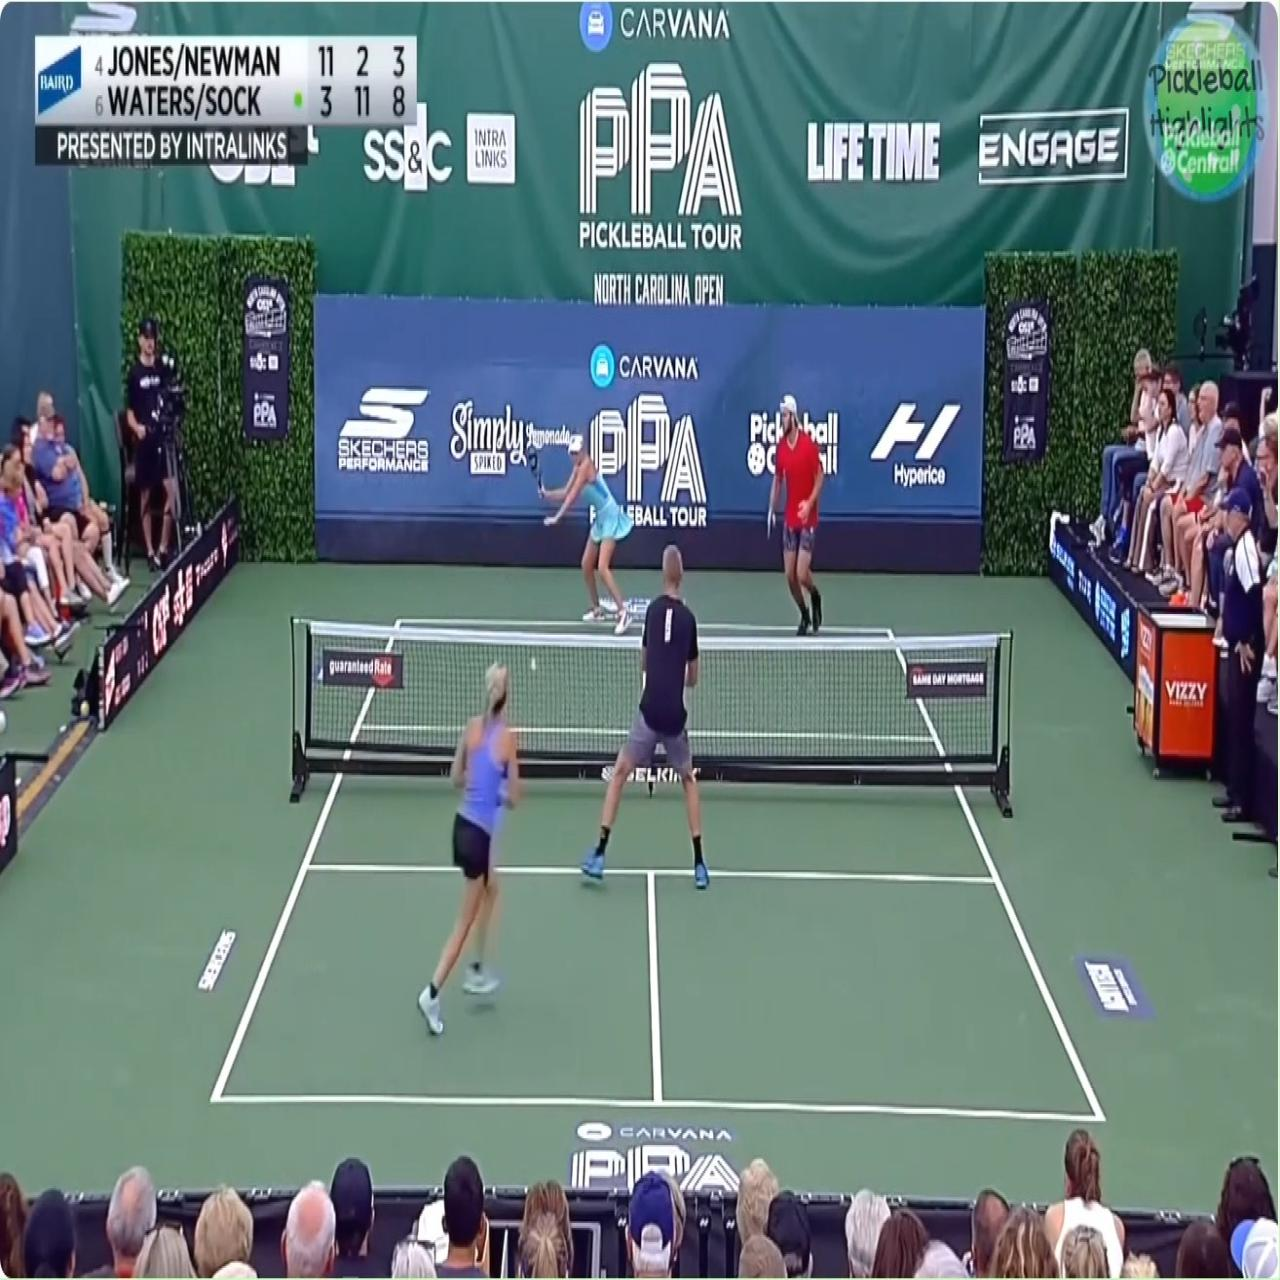pickleball: (531, 658, 537, 669)
